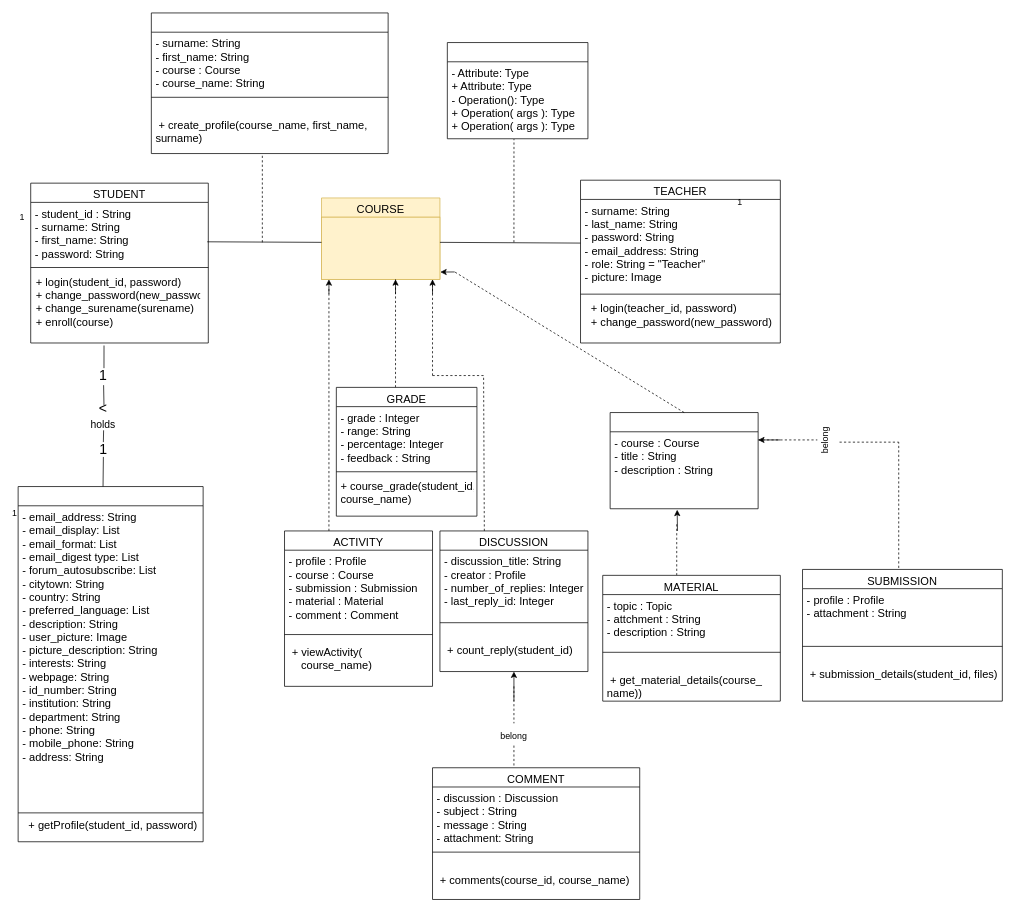
Image size: 1016x912. Some labels were removed from this diagram. The box of each missing label's shape, as (x1, y1, x2, y2) in pixels:
- course_name: String - campus: String - year: String - school: String: (321, 216, 440, 279)
COURSE PROFILE: (151, 12, 388, 154)
STUDENT PROFILE: (17, 486, 203, 842)
TEACHER_COURSE: (447, 42, 588, 139)
TOPIC: (609, 412, 758, 509)
